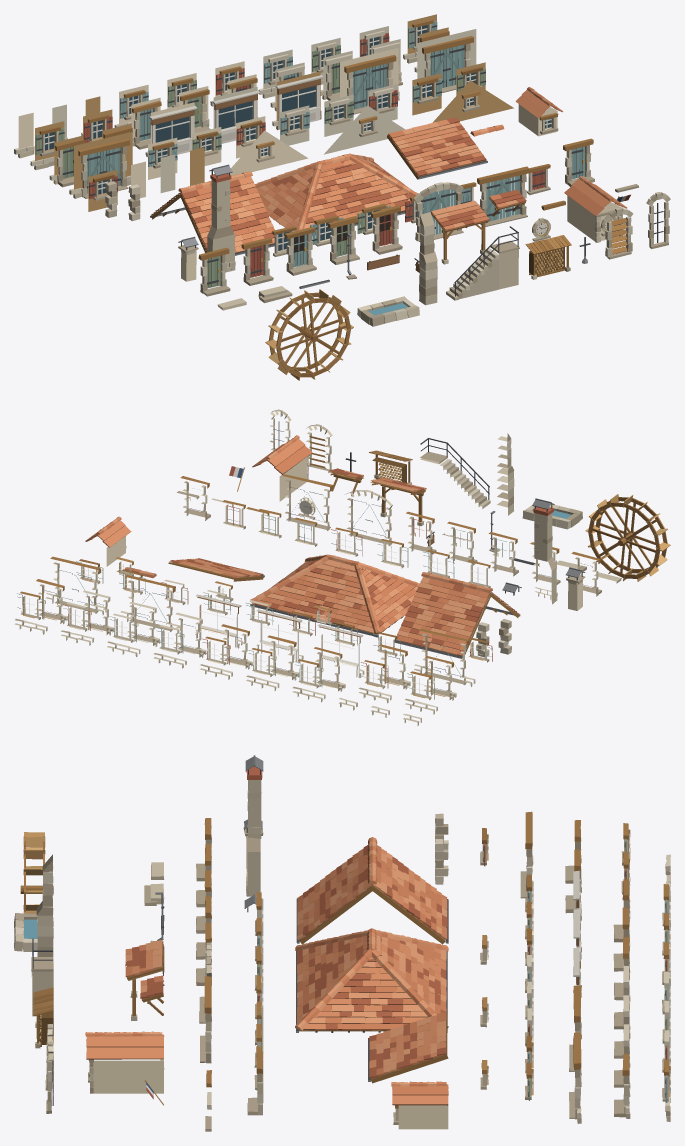
File: pieces-aubrune.glb
3 views of the same model, one above another, from view 1: azimuth 30°, elevation 25°; view 2: azimuth 150°, elevation 25°; view 3: azimuth 270°, elevation 25° (orthographic). The views are drawn at different scales.
Visible parts, largest first — view 1: toit-croupe, toit-deux-pans, toit-appentis, roue-de-moulin, escalier, mur-grange-bardage, mur-grange-pierre, mur-grange-crepi, fronton-horloge, cheminee-four, porte-de-grange, mur-devanture-bardage (+46 smaller); view 2: toit-croupe, toit-deux-pans, roue-de-moulin, fronton-horloge, cheminee-four, escalier, toit-appentis, lucarne, bucher, contrefort, auvent, mur-grange-bardage (+31 smaller); view 3: toit-croupe, toit-deux-pans, fronton-horloge, toit-appentis, lucarne, cheminee-four, auvent, contrefort, roue-de-moulin, bucher, bassin, escalier (+6 smaller).
Boxes of the visible parts, bbox=[...] form: toit-croupe: bbox=[255, 153, 417, 235]; toit-deux-pans: bbox=[150, 171, 274, 255]; toit-appentis: bbox=[387, 117, 487, 179]; roue-de-moulin: bbox=[265, 289, 353, 380]; escalier: bbox=[446, 226, 519, 300]; mur-grange-bardage: bbox=[69, 131, 132, 198]; mur-grange-pierre: bbox=[417, 29, 476, 92]; mur-grange-crepi: bbox=[340, 48, 399, 114]; fronton-horloge: bbox=[564, 176, 627, 242]; cheminee-four: bbox=[207, 164, 235, 272]; porte-de-grange: bbox=[477, 166, 529, 226]; mur-devanture-bardage: bbox=[272, 71, 323, 129]; toit-croupe: bbox=[250, 554, 419, 637]; toit-deux-pans: bbox=[394, 572, 520, 658]; roue-de-moulin: bbox=[585, 494, 670, 581]; fronton-horloge: bbox=[252, 435, 312, 501]; cheminee-four: bbox=[532, 498, 557, 604]; escalier: bbox=[420, 438, 490, 508]; toit-appentis: bbox=[168, 558, 264, 581]; lucarne: bbox=[85, 516, 131, 566]; bucher: bbox=[369, 450, 412, 484]; contrefort: bbox=[497, 433, 514, 515]; auvent: bbox=[370, 478, 426, 526]; mur-grange-bardage: bbox=[414, 628, 475, 686]; toit-croupe: bbox=[295, 928, 448, 1032]; toit-deux-pans: bbox=[296, 837, 448, 944]; fronton-horloge: bbox=[85, 1031, 164, 1093]; toit-appentis: bbox=[368, 1012, 448, 1083]; lucarne: bbox=[391, 1081, 448, 1129]; cheminee-four: bbox=[245, 755, 263, 896]; auvent: bbox=[125, 940, 163, 1020]; contrefort: bbox=[36, 854, 53, 956]; roue-de-moulin: bbox=[20, 832, 53, 913]; bucher: bbox=[33, 987, 53, 1048]; bassin: bbox=[14, 913, 53, 951]; escalier: bbox=[31, 938, 53, 1016].
Size of the model in its own units: 29.83 by 9.49 by 31.1.
